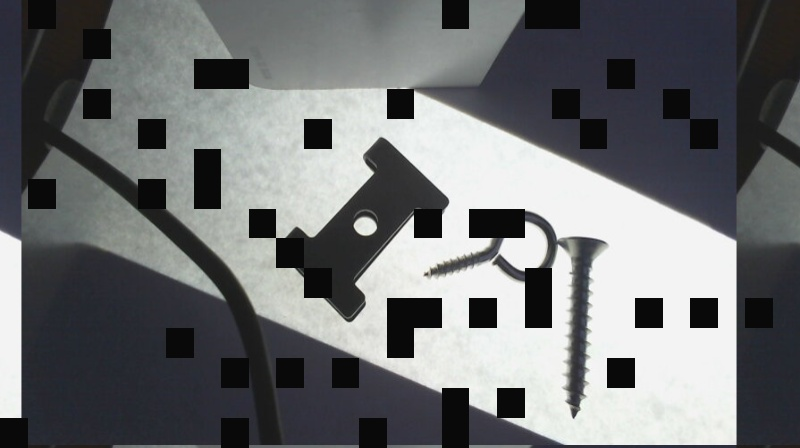O001: (422, 210, 558, 283)
O002: (277, 137, 448, 322)
S001: (557, 236, 614, 420)
